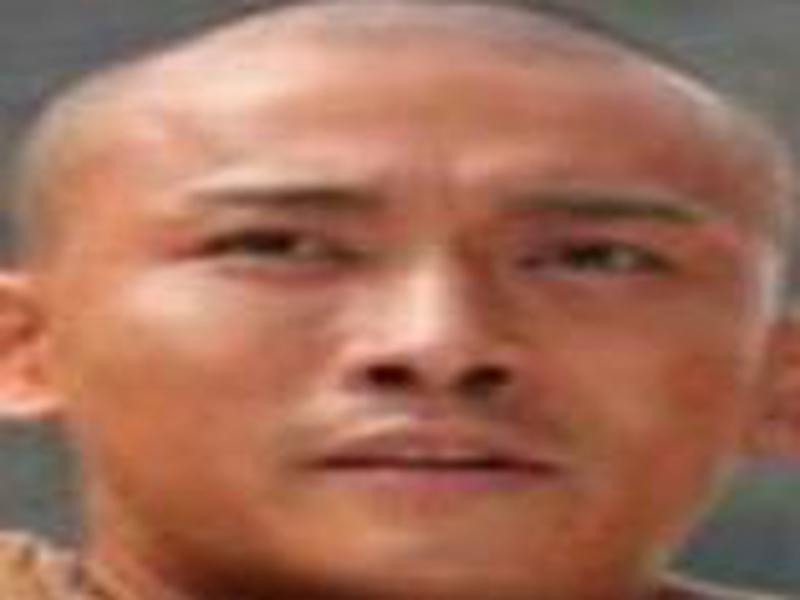without_mask: (48, 99, 749, 600)
